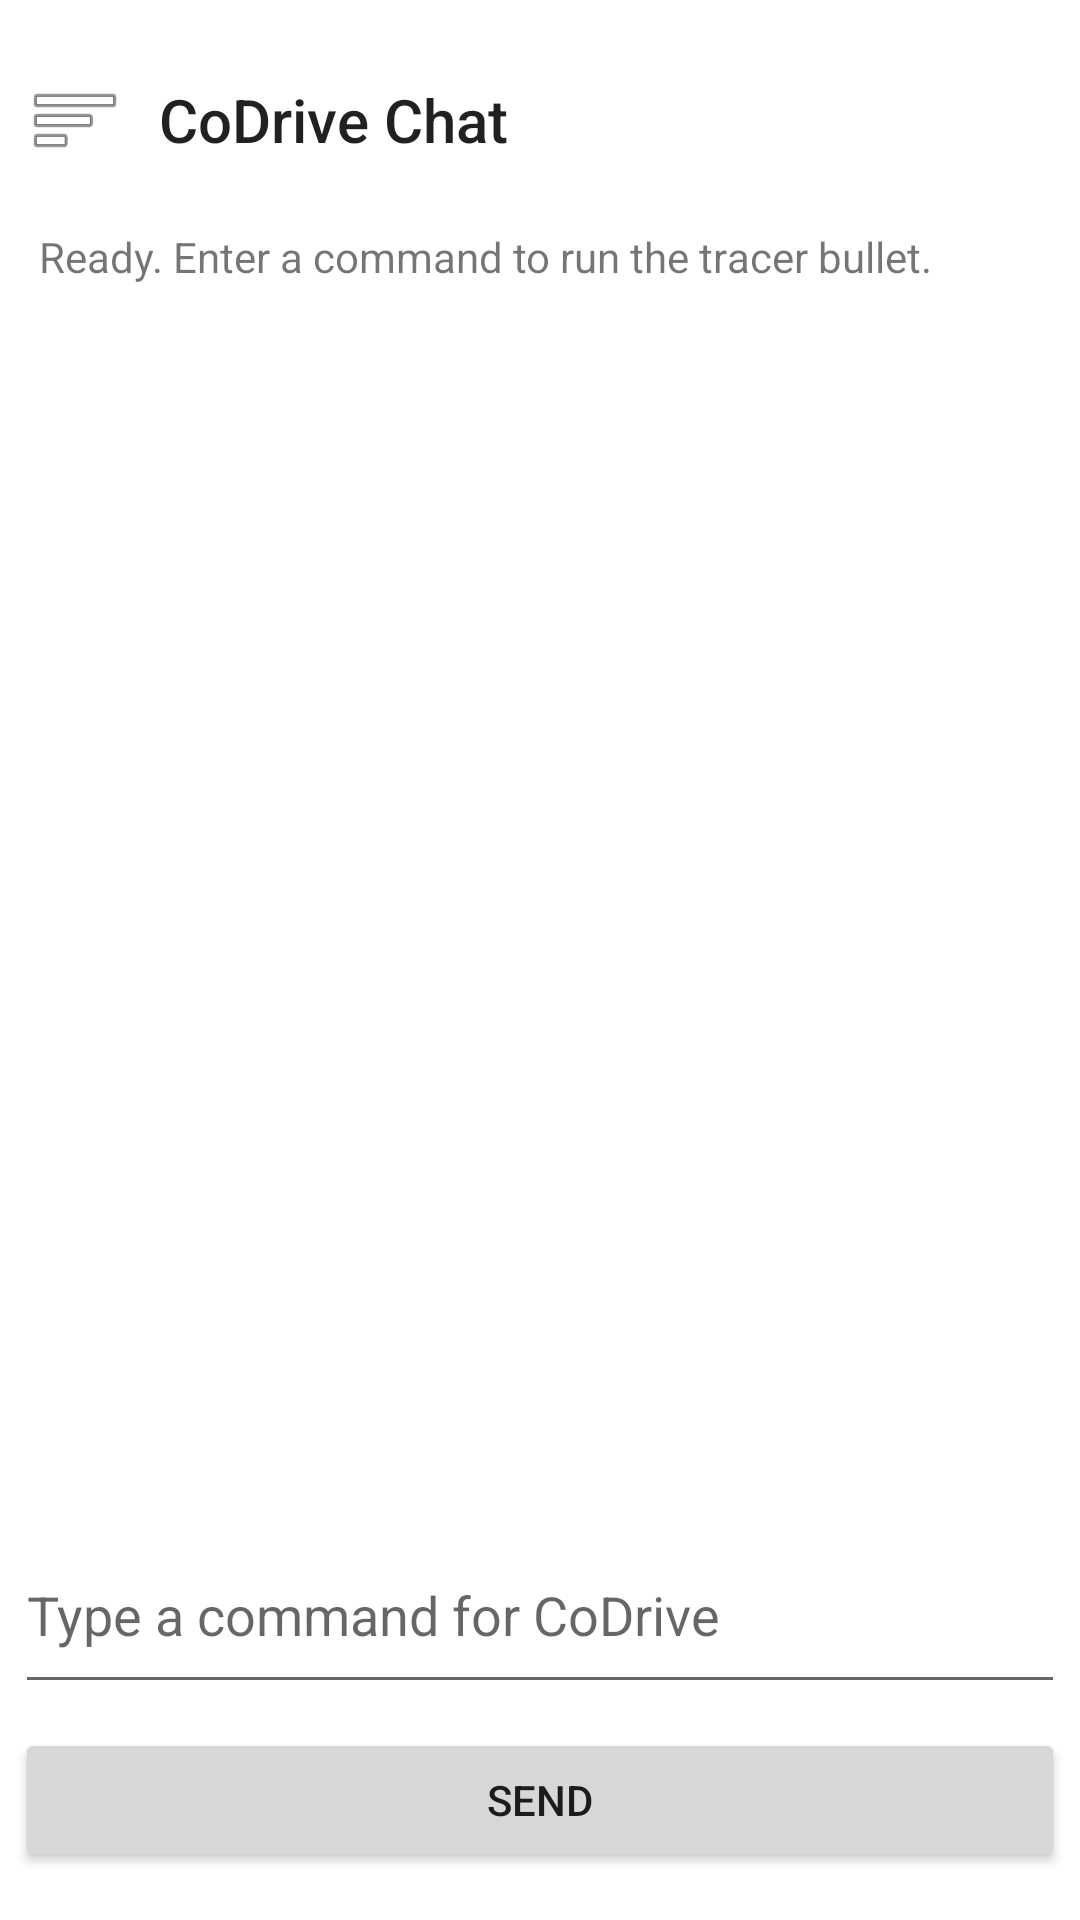

Icons on this 1080x1920 Android screen, each with the point to tap as point (x, y):
Open navigation menu: point (75, 120)
